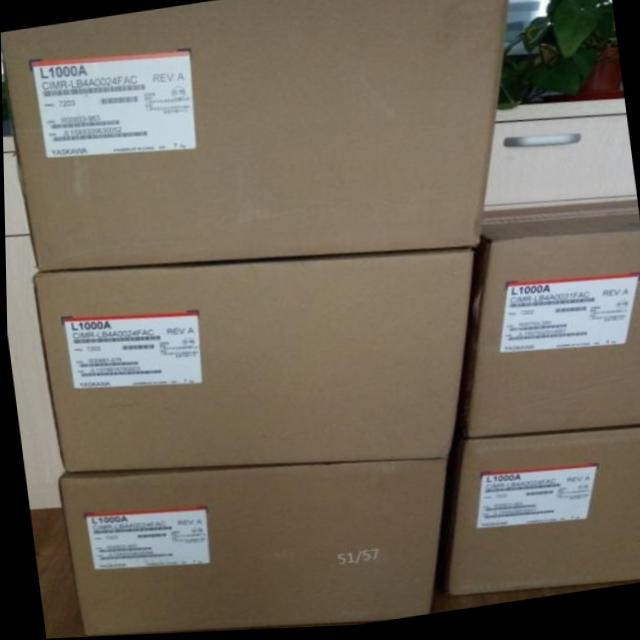box: (1, 0, 509, 272), (31, 252, 474, 473), (56, 463, 444, 637), (455, 205, 640, 441), (437, 430, 640, 599)
